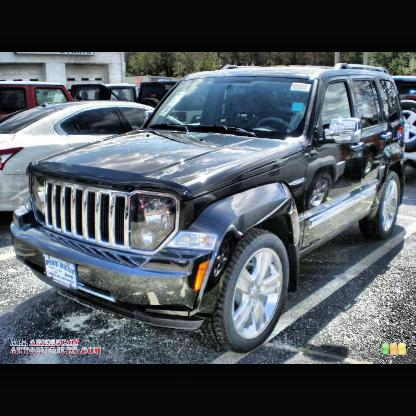Jeep Liberty SUV 2012: (9, 61, 408, 355)
